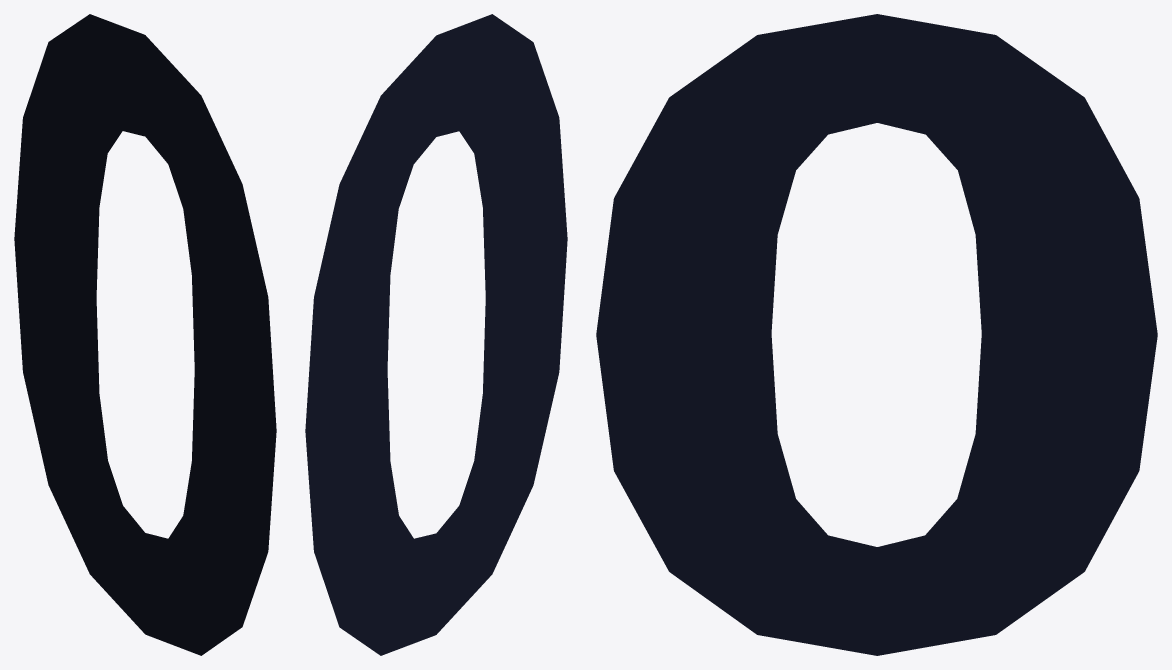
File: lat_glyph_0.dae
The picture shows the model from 3 angles, left to right: view 1: azimuth 30°, elevation 25°; view 2: azimuth 150°, elevation 25°; view 3: azimuth 270°, elevation 25°; orthographic projection. The views are drawn at different scales.
Parts seen in each view (by area): view 1: lat_glyph_0_L8; view 2: lat_glyph_0_L8; view 3: lat_glyph_0_L8.
Boxes of the visible parts, <box> form: lat_glyph_0_L8: <box>14,14,276,655</box>; lat_glyph_0_L8: <box>305,14,567,655</box>; lat_glyph_0_L8: <box>596,14,1157,655</box>.
Size of the model in its own units: 0 by 0.823 by 1.04.
